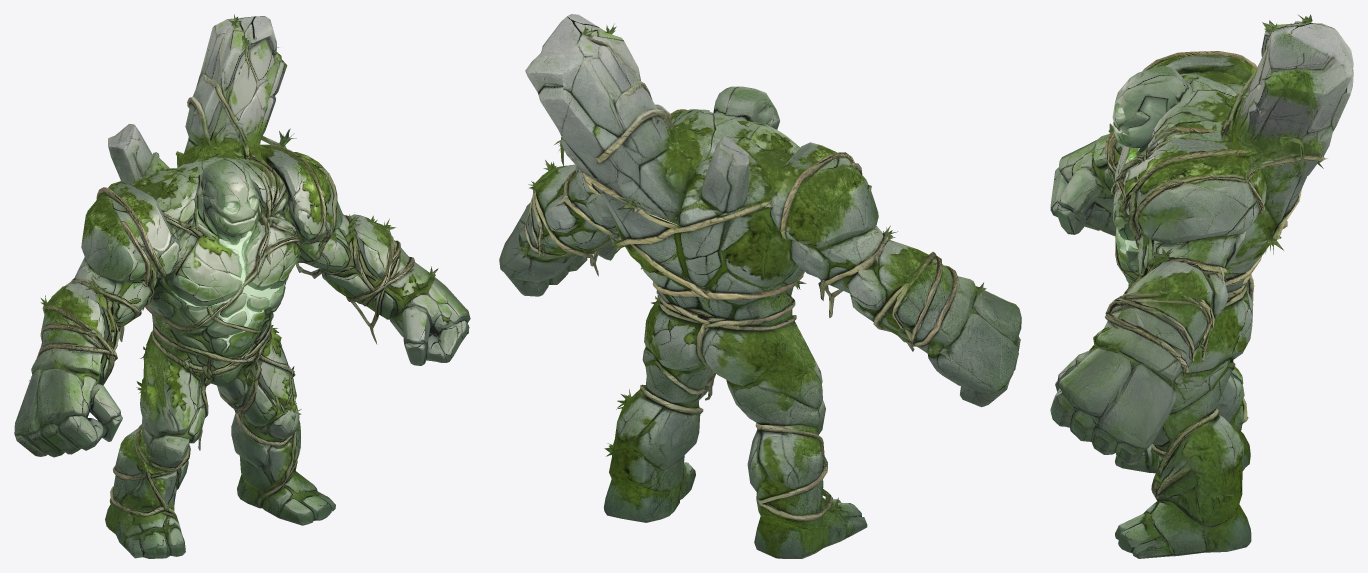
The model's file is boss-golem.glb.
The picture shows the model from 3 angles, left to right: view 1: azimuth 30°, elevation 25°; view 2: azimuth 150°, elevation 25°; view 3: azimuth 270°, elevation 25°; orthographic projection. The views are drawn at different scales.
Parts seen in each view (by area): view 1: Mesh_0; view 2: Mesh_0; view 3: Mesh_0.
Part boxes in pixels (bbox=[...]): Mesh_0: bbox=[14, 14, 470, 558]; Mesh_0: bbox=[499, 14, 1021, 558]; Mesh_0: bbox=[1050, 14, 1353, 558].
Size of the model in its own units: 62063 by 59972 by 31203.
Materials: 1 (1 with a texture image).
